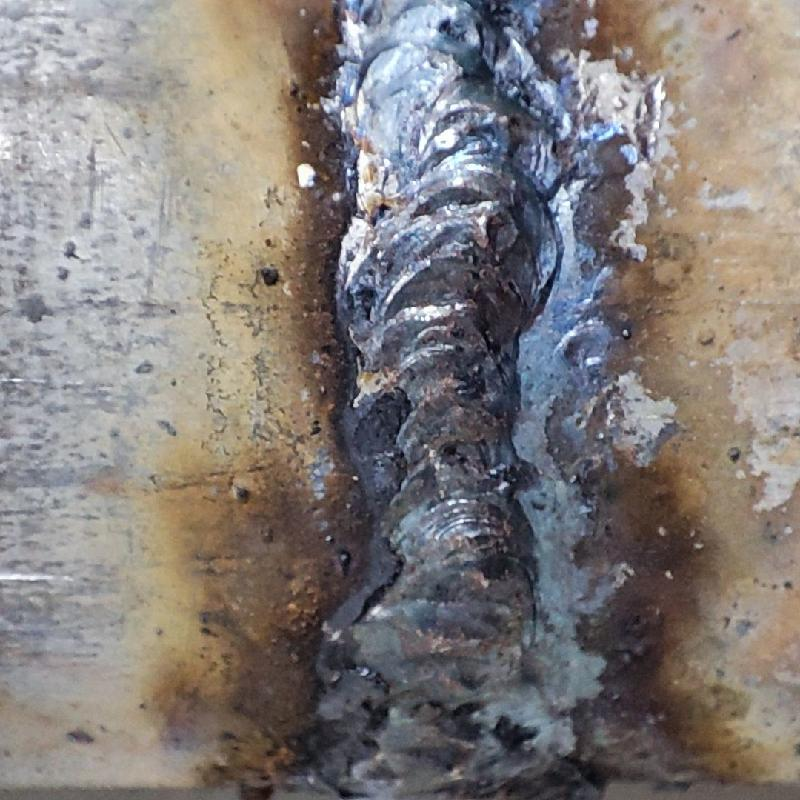Surface_pores: (431, 434, 479, 473)
